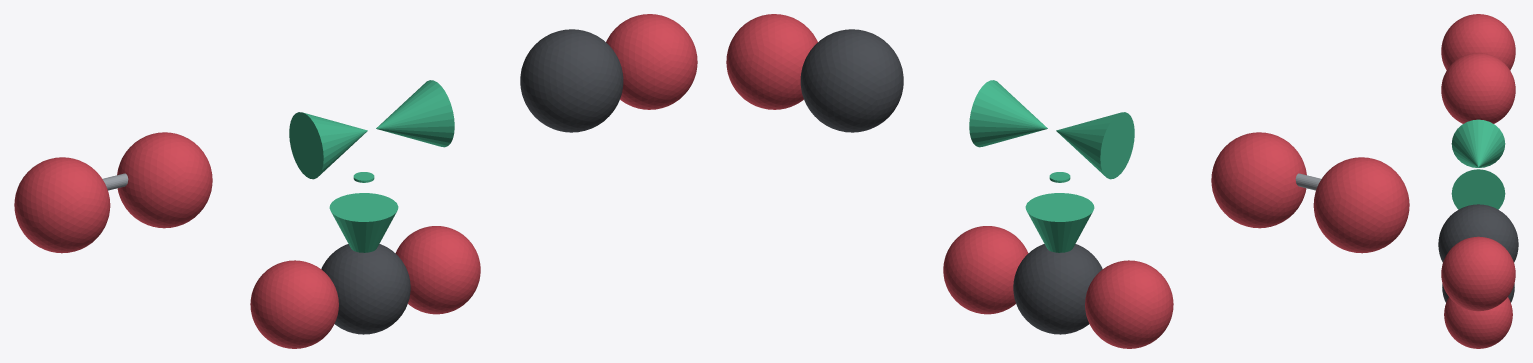
The model's file is 03-colisao-efetiva.glb.
3 views of the same model, side by side, from view 1: azimuth 30°, elevation 25°; view 2: azimuth 150°, elevation 25°; view 3: azimuth 270°, elevation 25° (orthographic). The views are drawn at different scales.
Parts seen in each view (by area): view 1: world, C, O2O1, O2O2, O, newO, newC, newO2; view 2: world, C, O2O1, O2O2, O, newO, newC, newO2; view 3: O, O2O2, world, O2O1, C, newO2, newC.
Boxes of the visible parts, x1,y1,x2,y2 form: world: [289, 80, 454, 252]; C: [520, 29, 623, 132]; O2O1: [14, 157, 110, 253]; O2O2: [117, 132, 212, 228]; O: [606, 14, 697, 109]; newO: [250, 260, 338, 348]; newC: [321, 244, 410, 334]; newO2: [395, 226, 480, 314]; world: [969, 80, 1134, 252]; C: [800, 29, 903, 132]; O2O1: [1313, 157, 1409, 253]; O2O2: [1211, 132, 1306, 228]; O: [726, 14, 817, 109]; newO: [1085, 260, 1173, 348]; newC: [1013, 244, 1102, 334]; newO2: [943, 226, 1028, 314]; O: [1441, 236, 1515, 311]; O2O2: [1441, 53, 1515, 123]; world: [1451, 119, 1505, 209]; O2O1: [1441, 14, 1515, 70]; C: [1438, 204, 1518, 262]; newO2: [1444, 297, 1512, 348]; newC: [1442, 284, 1514, 302].
Size of what is drawn, in the model's own units: 6.29 by 2.2 by 0.84.
